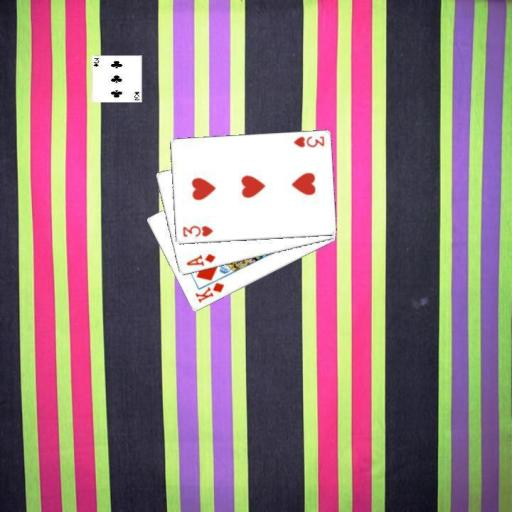card-corner: (192, 280, 226, 304), (290, 133, 325, 149), (183, 251, 217, 267), (179, 223, 214, 238)
